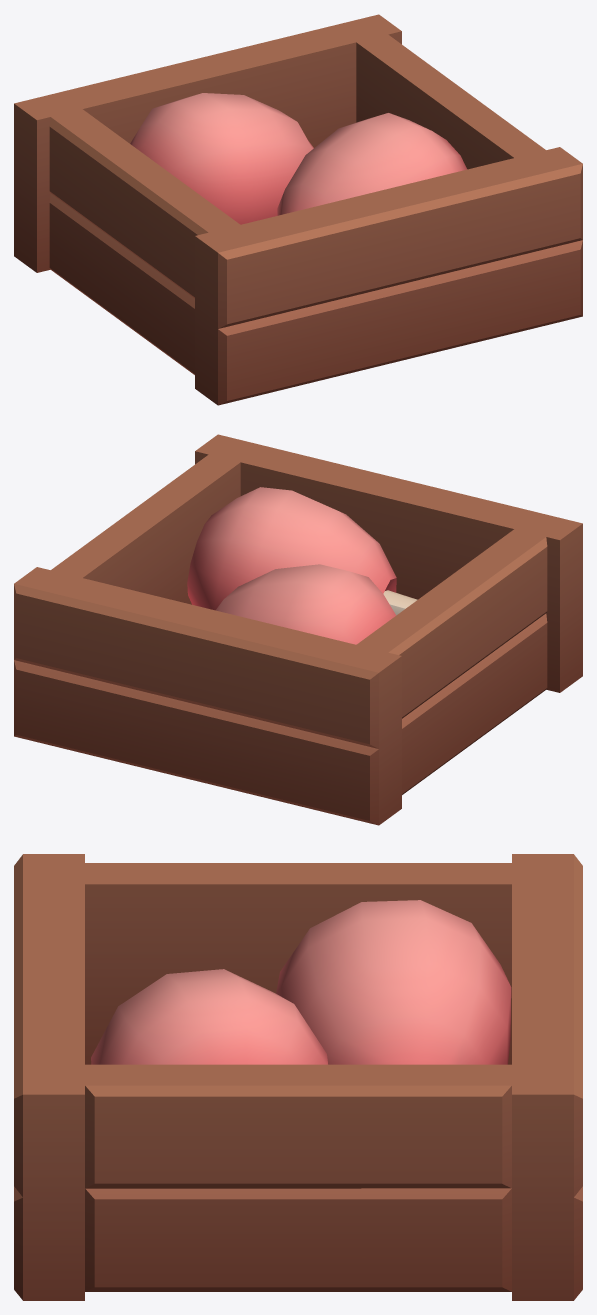
Rendered from kay-crate_ham.glb.
The picture shows the model from 3 angles, top to bottom: view 1: azimuth 30°, elevation 25°; view 2: azimuth 150°, elevation 25°; view 3: azimuth 270°, elevation 25°; orthographic projection. The views are drawn at different scales.
Parts seen in each view (by area): view 1: crate_ham; view 2: crate_ham; view 3: crate_ham.
Part boxes in pixels (<box>): crate_ham: <box>14,14,582,405</box>; crate_ham: <box>14,434,582,825</box>; crate_ham: <box>14,854,582,1300</box>.
Size of the model in its own units: 0.6 by 0.2681 by 0.6.
1 material, 1 textured.
